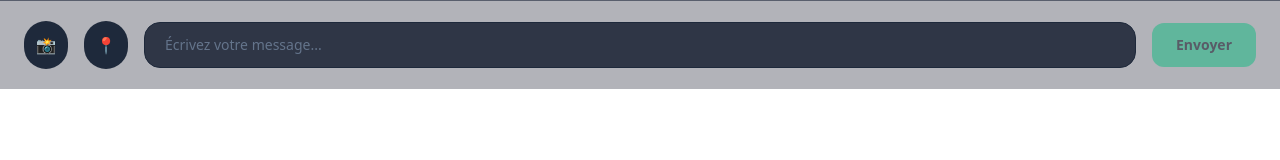
Test: ChatInput › bouton envoyer › est activé si le message n'est pas vide
Type "Test" into the field with placeholder "Écrivez votre message..." at (640, 45), box [144,22,1136,68]
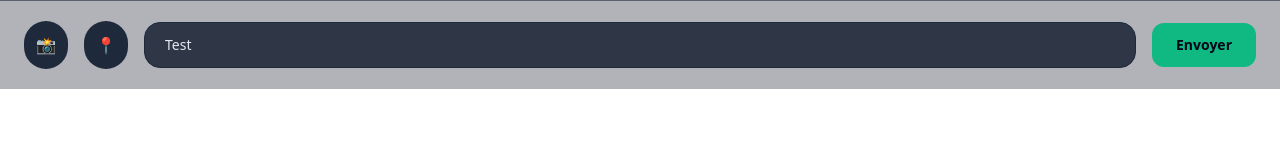
Expected: the submit button is enabled, [1152,23,1256,67]
